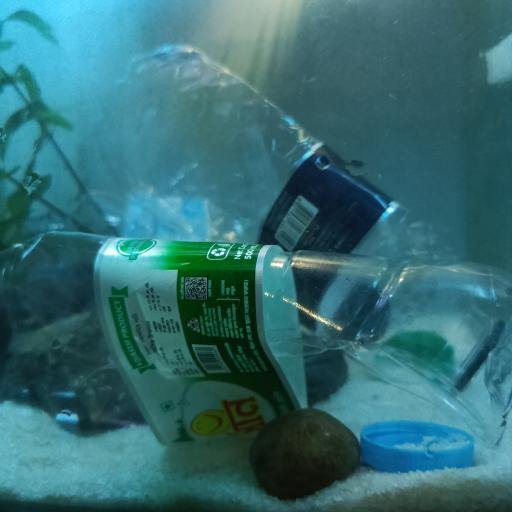bottle_cap: (360, 420, 475, 470)
plastic_bottle: (75, 41, 512, 394), (0, 227, 512, 437)
